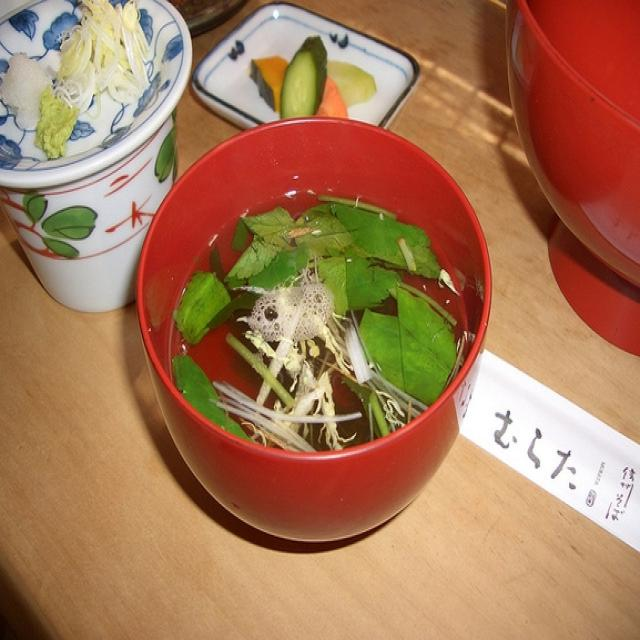汤锅炖物: (137, 121, 487, 492)
